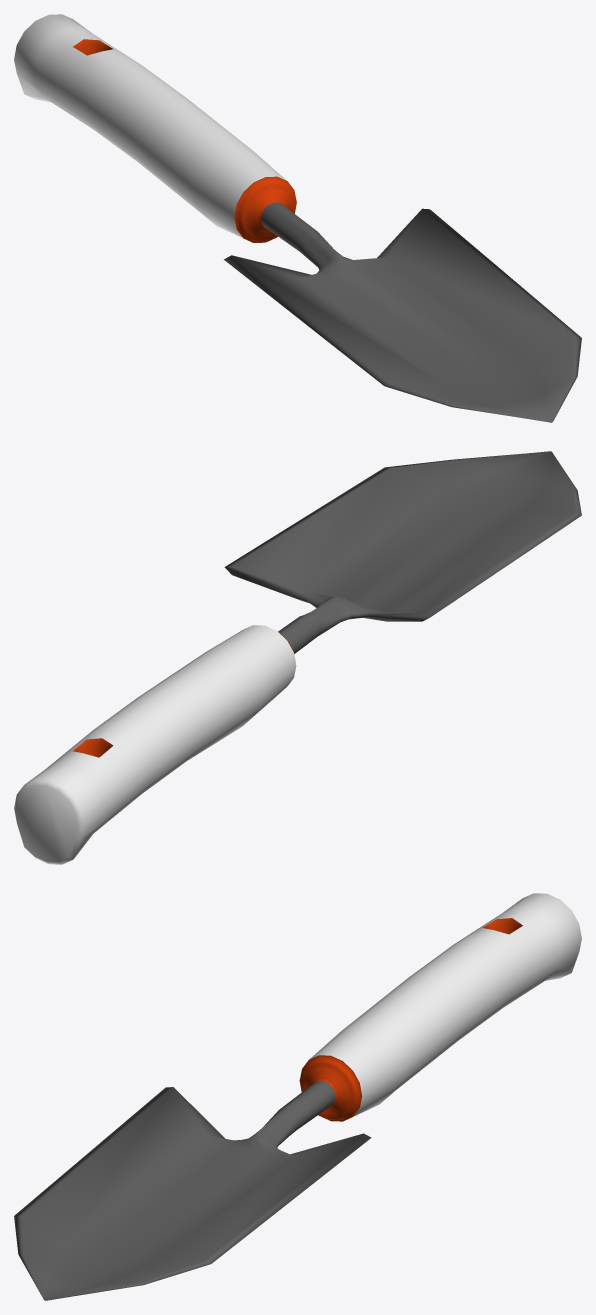
The model's file is HandSpade.fbx.
3 renders of one model, top to bottom at view 1: azimuth 30°, elevation 25°; view 2: azimuth 150°, elevation 25°; view 3: azimuth 330°, elevation 25°, orthographic.
Visible parts, largest first — view 1: Cylinder.001, Cylinder.004, Cylinder.002; view 2: Cylinder.001, Cylinder.004; view 3: Cylinder.001, Cylinder.004, Cylinder.002.
Boxes of the visible parts, left/top/right/bottom form: Cylinder.001: left=224, top=202, right=581, bottom=422; Cylinder.004: left=14, top=14, right=286, bottom=237; Cylinder.002: left=73, top=39, right=296, bottom=242; Cylinder.001: left=224, top=451, right=581, bottom=653; Cylinder.004: left=14, top=625, right=296, bottom=864; Cylinder.001: left=14, top=1081, right=371, bottom=1300; Cylinder.004: left=309, top=893, right=581, bottom=1116; Cylinder.002: left=299, top=918, right=522, bottom=1121.
Bounding box in the file's own units: 46.27 × 18.97 × 196.
